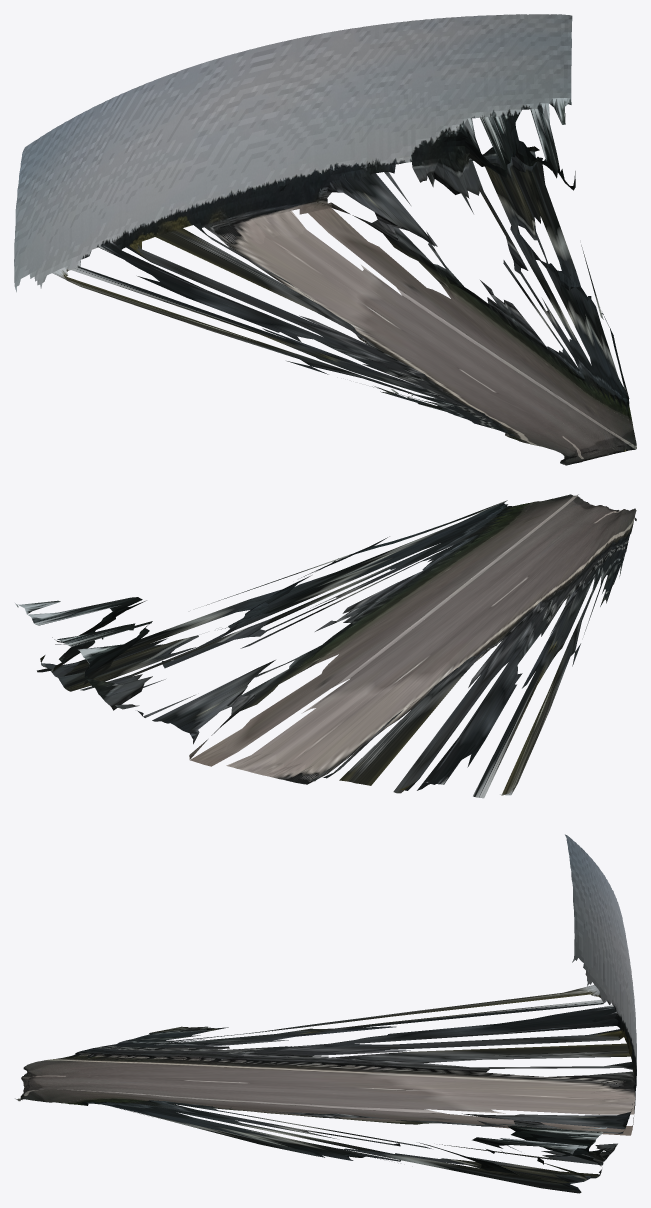
3 renders of one model, top to bottom at view 1: azimuth 30°, elevation 25°; view 2: azimuth 150°, elevation 25°; view 3: azimuth 270°, elevation 25°, orthographic. The views are drawn at different scales.
Parts seen in each view (by area): view 1: defaultobject; view 2: defaultobject; view 3: defaultobject.
Part boxes in pixels (x1,y1,x2,y2): defaultobject: [14, 14, 636, 465]; defaultobject: [15, 494, 636, 798]; defaultobject: [15, 834, 636, 1193].
Size of the model in its own units: 41.11 by 13.01 by 44.76.
1 material, 1 textured.
